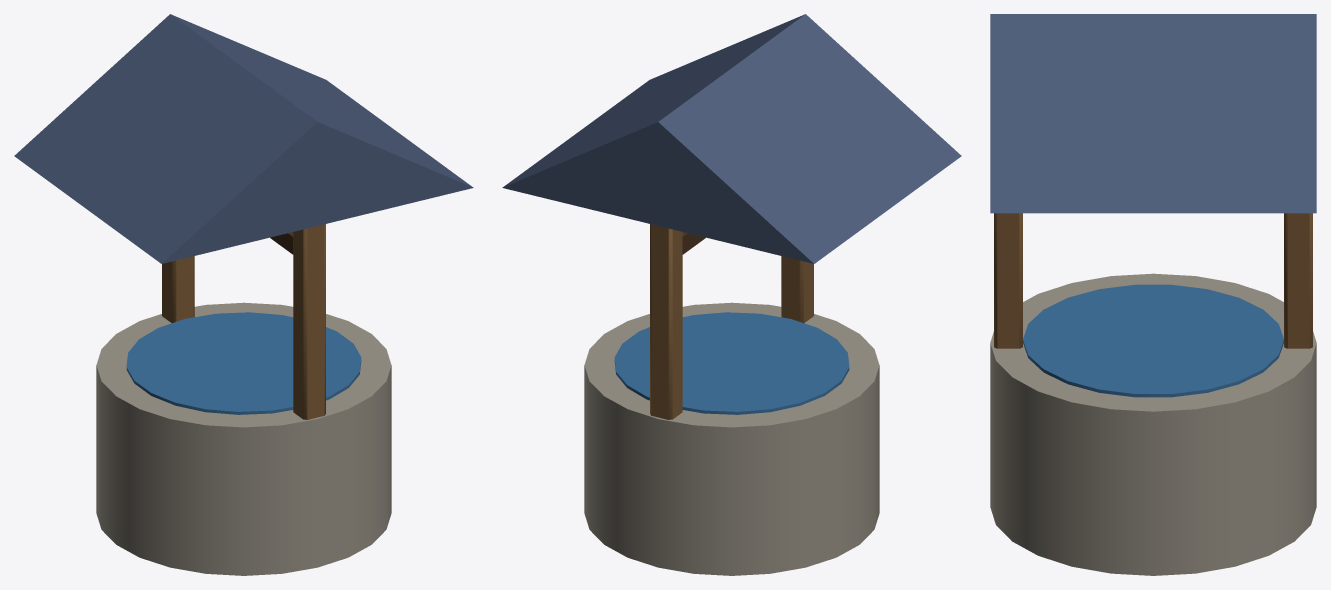
File: well.glb
3 renders of one model, left to right at view 1: azimuth 30°, elevation 25°; view 2: azimuth 150°, elevation 25°; view 3: azimuth 270°, elevation 25°, orthographic. The views are drawn at different scales.
Parts seen in each view (by area): view 1: building; view 2: building; view 3: building.
Part boxes in pixels (x1,y1,x2,y2): building: [14, 14, 473, 575]; building: [502, 14, 961, 575]; building: [990, 14, 1316, 575].
Bounding box in the file's own units: 1.1 × 1.5 × 0.9.
